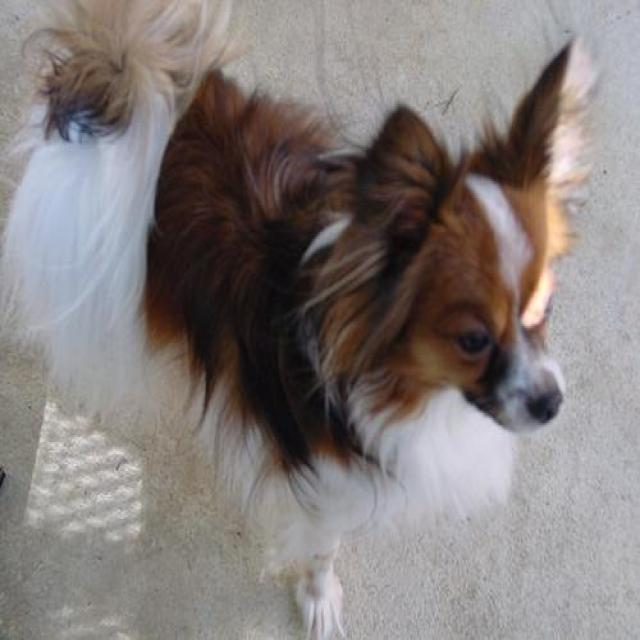papillon: (0, 0, 596, 638)
